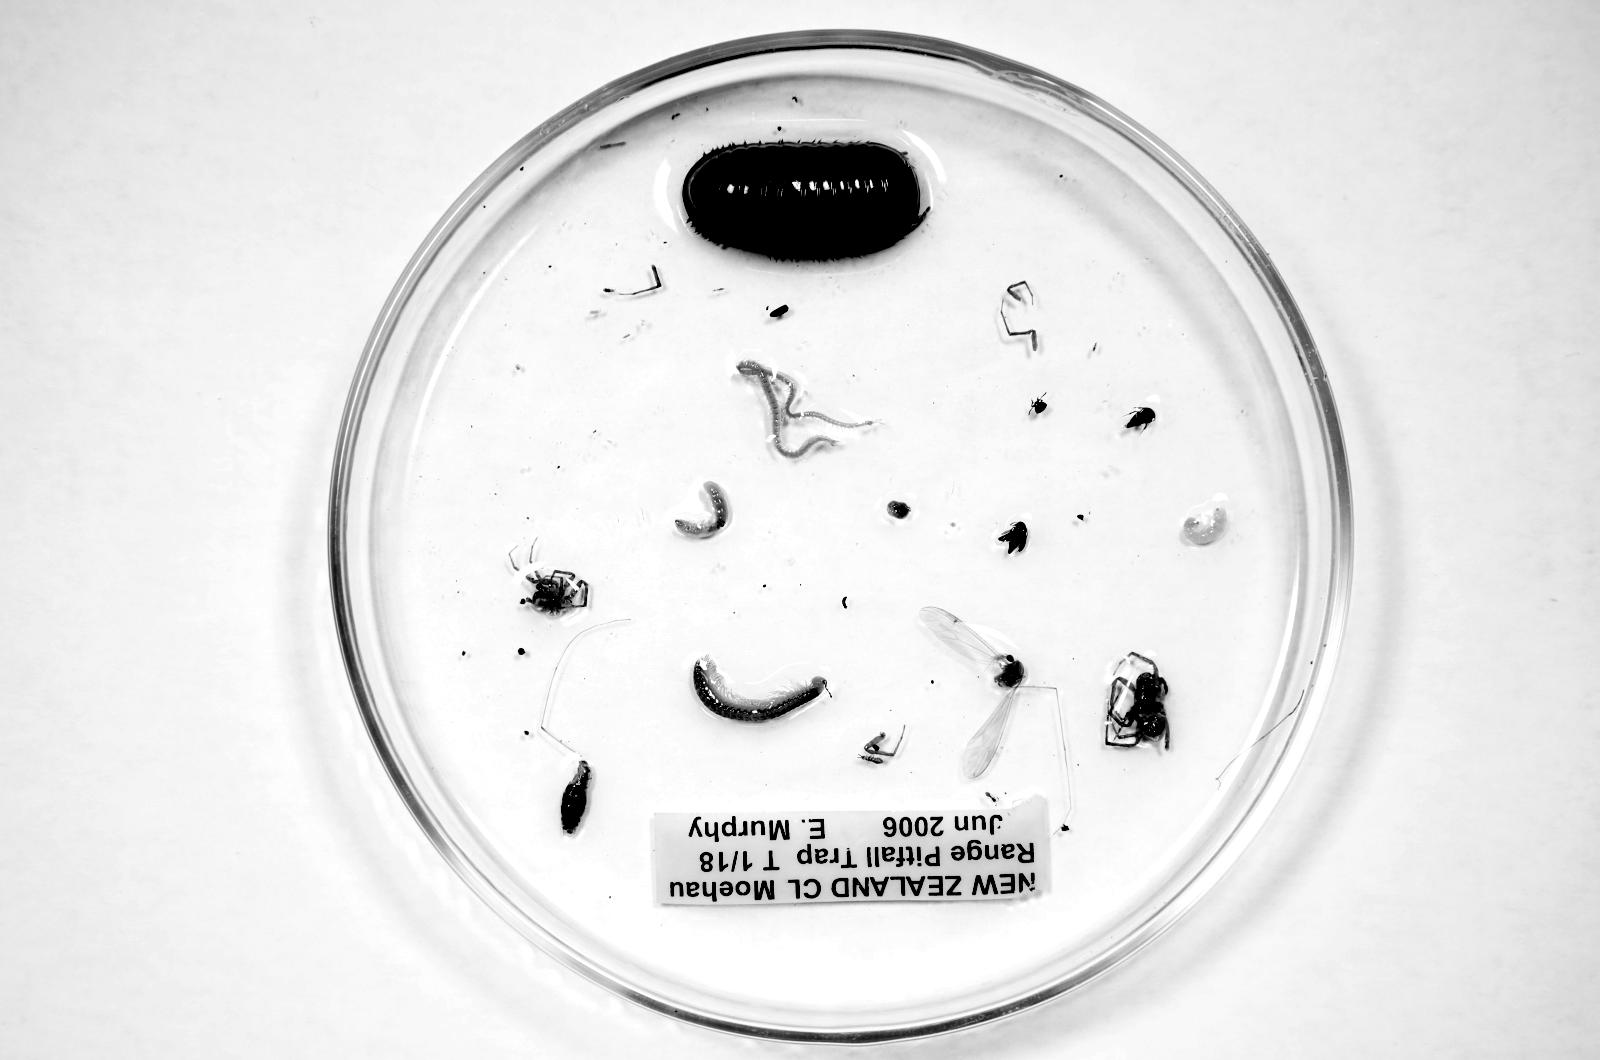araneae: (1106, 652, 1170, 749), (520, 568, 589, 615)
chilopoda: (736, 358, 877, 459)
coleoptera: (998, 521, 1028, 554), (1123, 407, 1155, 429)
diplopoda: (693, 657, 828, 722)
isopoda: (684, 142, 928, 257)
tipulidae: (919, 607, 1025, 778)
